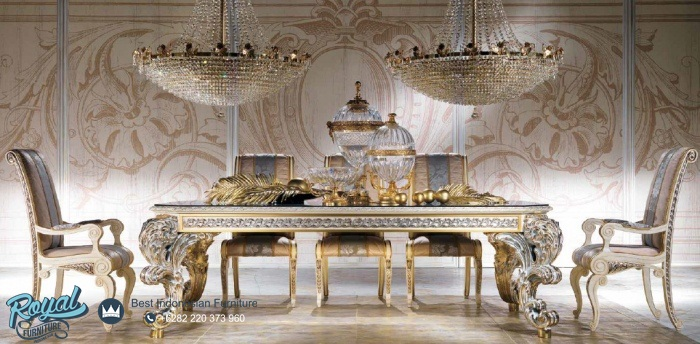Carving Chair: (4, 136, 141, 328), (570, 138, 700, 336)
Carving Table: (147, 192, 570, 339)
